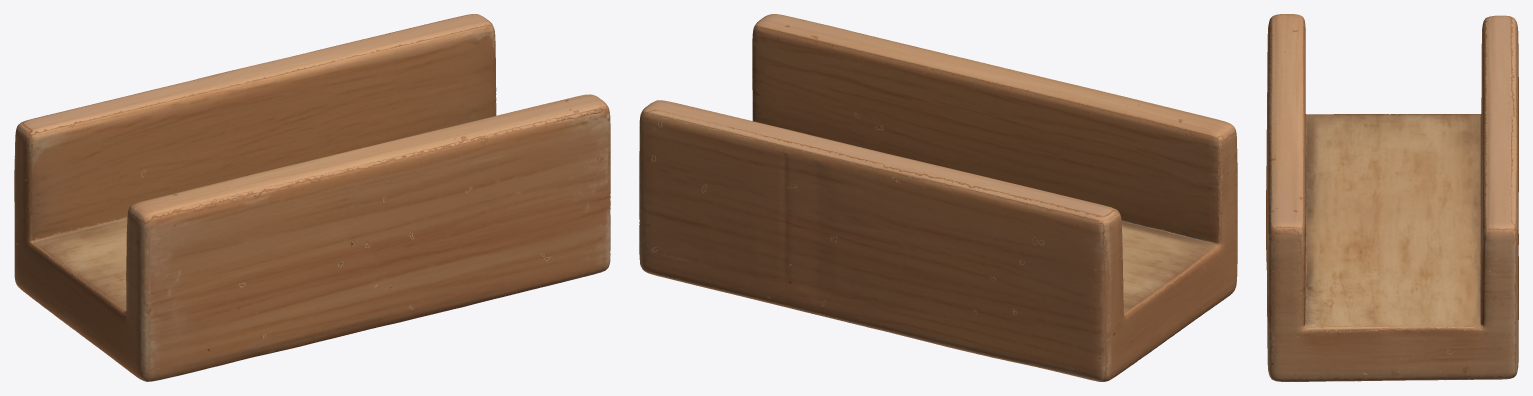
3 renders of one model, left to right at view 1: azimuth 30°, elevation 25°; view 2: azimuth 150°, elevation 25°; view 3: azimuth 270°, elevation 25°, orthographic. The views are drawn at different scales.
Size of the model in its own units: 1.76 by 0.618 by 0.8717.
1 material, 1 textured.
